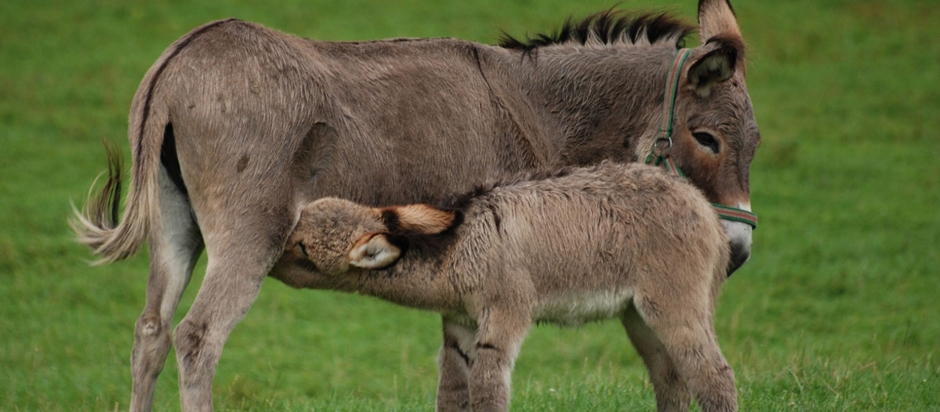donkey: (110, 4, 758, 412), (281, 167, 742, 412)
